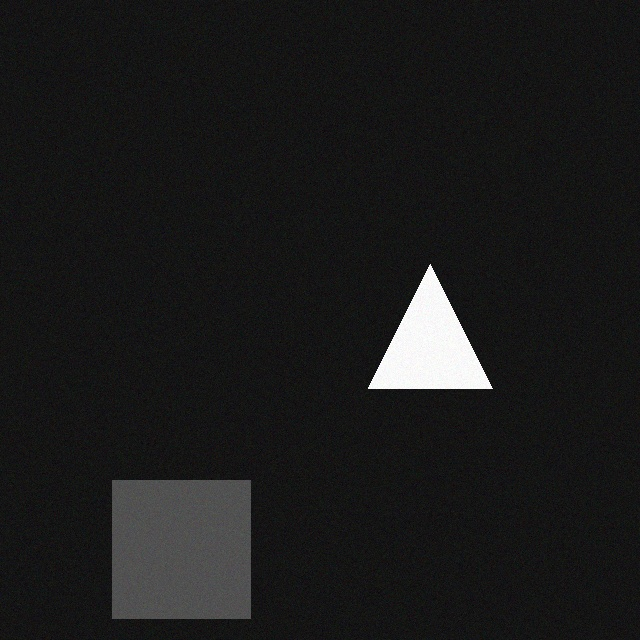square: (97, 466, 235, 604)
triangle: (353, 250, 477, 374)
